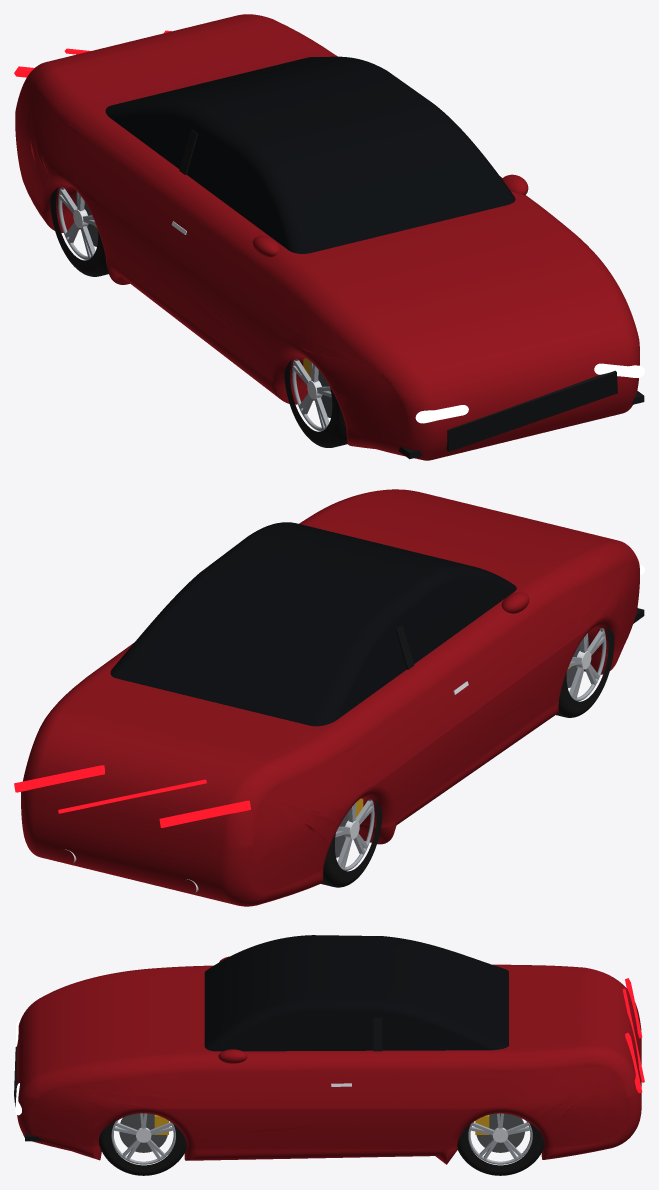
File: demo-car.glb
3 views of the same model, one above another, from view 1: azimuth 30°, elevation 25°; view 2: azimuth 150°, elevation 25°; view 3: azimuth 270°, elevation 25° (orthographic). The views are drawn at different scales.
Visible parts, largest first — view 1: Body, Glass, DemoCar, WheelFrontLeft, WheelRearLeft; view 2: Body, Glass, DemoCar, WheelRearLeft, WheelFrontLeft; view 3: Body, Glass, WheelFrontRight, WheelRearRight, DemoCar.
Boxes of the visible parts, left/top/right/bottom form: Body: left=15, top=14, right=639, bottom=460; Glass: left=105, top=56, right=515, bottom=253; DemoCar: left=14, top=30, right=644, bottom=459; WheelFrontLeft: left=284, top=358, right=347, bottom=447; WheelRearLeft: left=50, top=187, right=108, bottom=276; Body: left=21, top=489, right=639, bottom=906; Glass: left=110, top=522, right=516, bottom=726; DemoCar: left=14, top=564, right=644, bottom=892; WheelRearLeft: left=321, top=798, right=382, bottom=887; WheelFrontLeft: left=556, top=627, right=614, bottom=717; Body: left=17, top=964, right=641, bottom=1164; Glass: left=204, top=935, right=508, bottom=1051; WheelFrontRight: left=99, top=1113, right=186, bottom=1175; WheelRearRight: left=457, top=1113, right=544, bottom=1175; DemoCar: left=14, top=956, right=644, bottom=1141.
Size of the model in its own units: 2 by 1.36 by 4.88.
